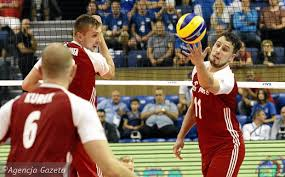ball: (175, 12, 207, 45)
